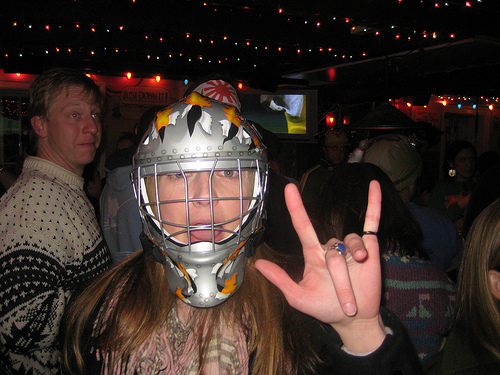helmet: (136, 98, 264, 290)
